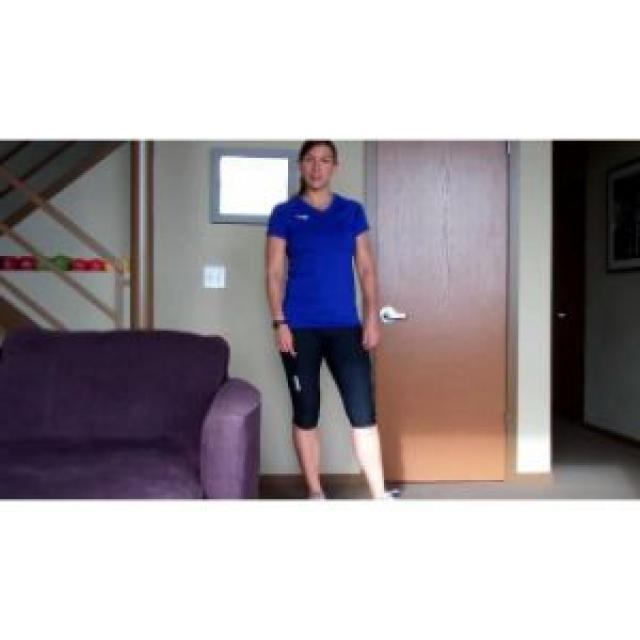adult: (262, 136, 376, 472)
